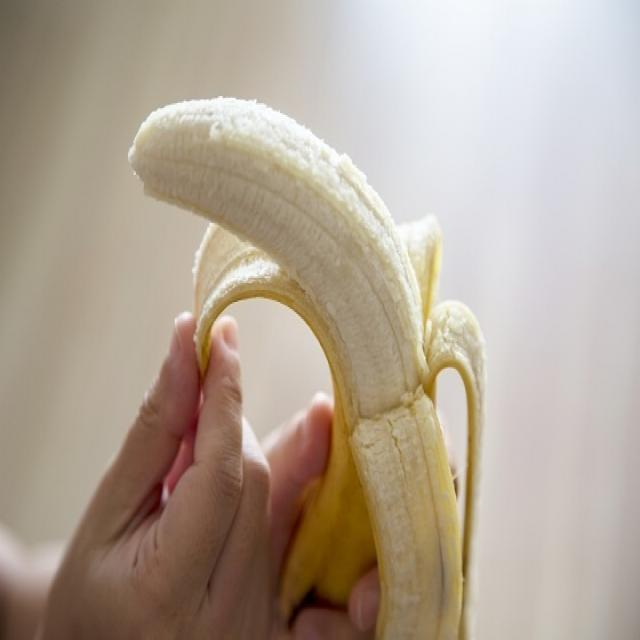banana-peel: (126, 94, 487, 638)
